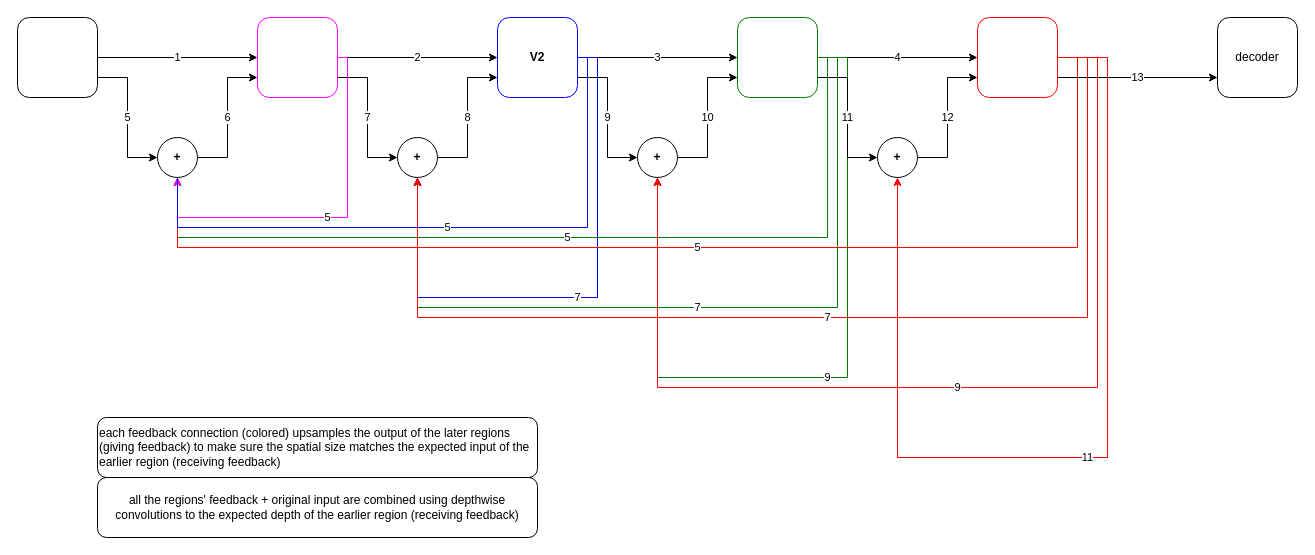
Image size: 1315x555. Some labels were removed from this diagram. The shapes that lost their labels are listed below. From the top down, each one's centre as x and y in pixels, then its label:
At point (57, 57): "input".
At point (297, 57): "V1".
At point (777, 57): "V4".
At point (1017, 57): "IT".
